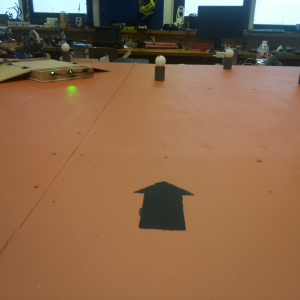obstacle: (154, 54, 167, 82), (223, 48, 235, 71), (61, 43, 72, 61)
side: (39, 66, 93, 81)
slope: (1, 62, 33, 82)
